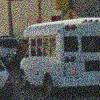buses: (20, 21, 100, 96)
